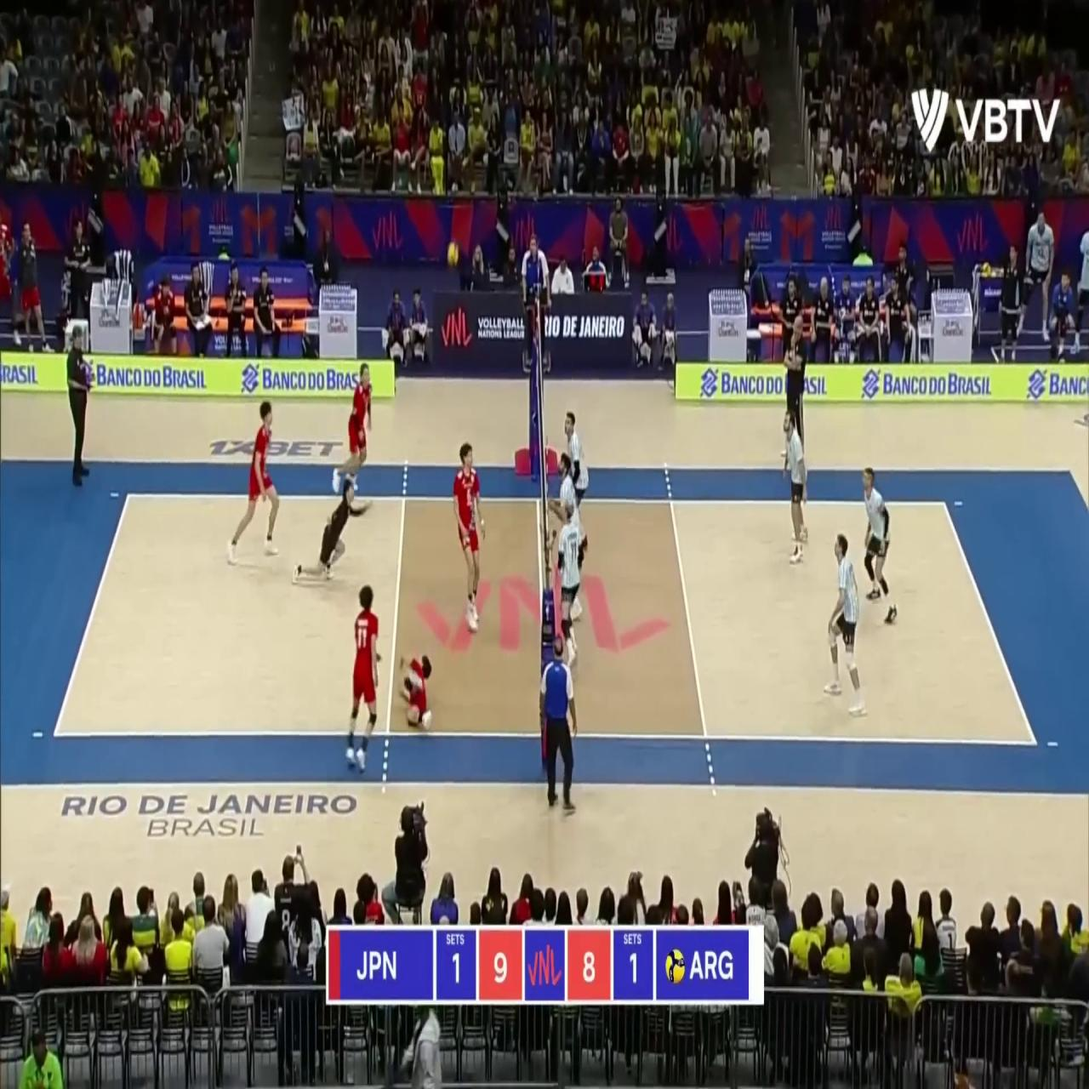ball: (447, 242, 459, 268)
